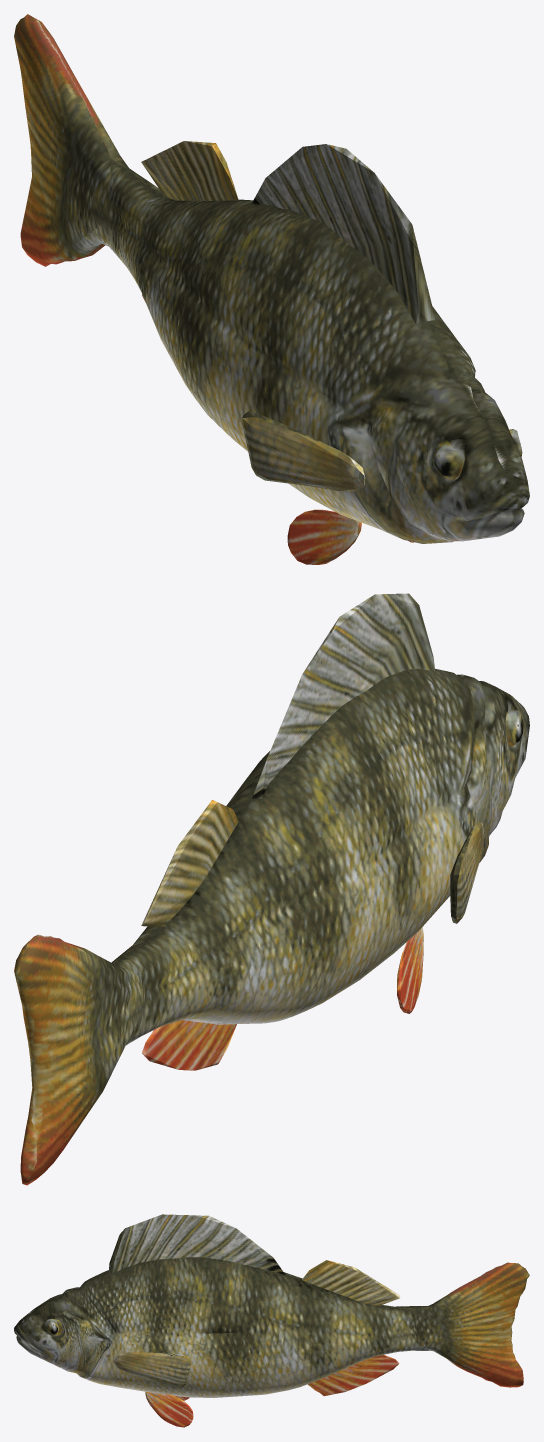
Rendered from EuropeanPerch smooth.fbx.
3 views of the same model, one above another, from view 1: azimuth 30°, elevation 25°; view 2: azimuth 150°, elevation 25°; view 3: azimuth 270°, elevation 25° (orthographic). The views are drawn at different scales.
Visible parts, largest first — view 1: Sphere, Cube, Sphere.002, Cube.001, Sphere.003; view 2: Sphere, Cube, Cube.001, Cube.002, Sphere.002, Sphere.003; view 3: Sphere, Cube, Cube.001, Sphere.001, Cube.002, Sphere.004.
Part boxes in pixels (x1=…): Sphere: x1=14, y1=14, x2=529, y2=543; Cube: x1=251, y1=144, x2=435, y2=324; Sphere.002: x1=242, y1=411, x2=365, y2=491; Cube.001: x1=141, y1=141, x2=238, y2=200; Sphere.003: x1=287, y1=509, x2=361, y2=564; Sphere: x1=14, y1=669, x2=529, y2=1185; Cube: x1=252, y1=593, x2=435, y2=798; Cube.001: x1=141, y1=800, x2=238, y2=926; Cube.002: x1=142, y1=1020, x2=236, y2=1070; Sphere.002: x1=450, y1=821, x2=484, y2=923; Sphere.003: x1=397, y1=927, x2=423, y2=1013; Sphere: x1=14, y1=1257, x2=529, y2=1397; Cube: x1=108, y1=1214, x2=285, y2=1274; Cube.001: x1=302, y1=1260, x2=400, y2=1305; Sphere.001: x1=113, y1=1352, x2=191, y2=1387; Cube.002: x1=308, y1=1354, x2=399, y2=1396; Sphere.004: x1=145, y1=1392, x2=193, y2=1427.
Size of the model in its own units: 176 by 315 by 736.
8 materials, 8 textured.
